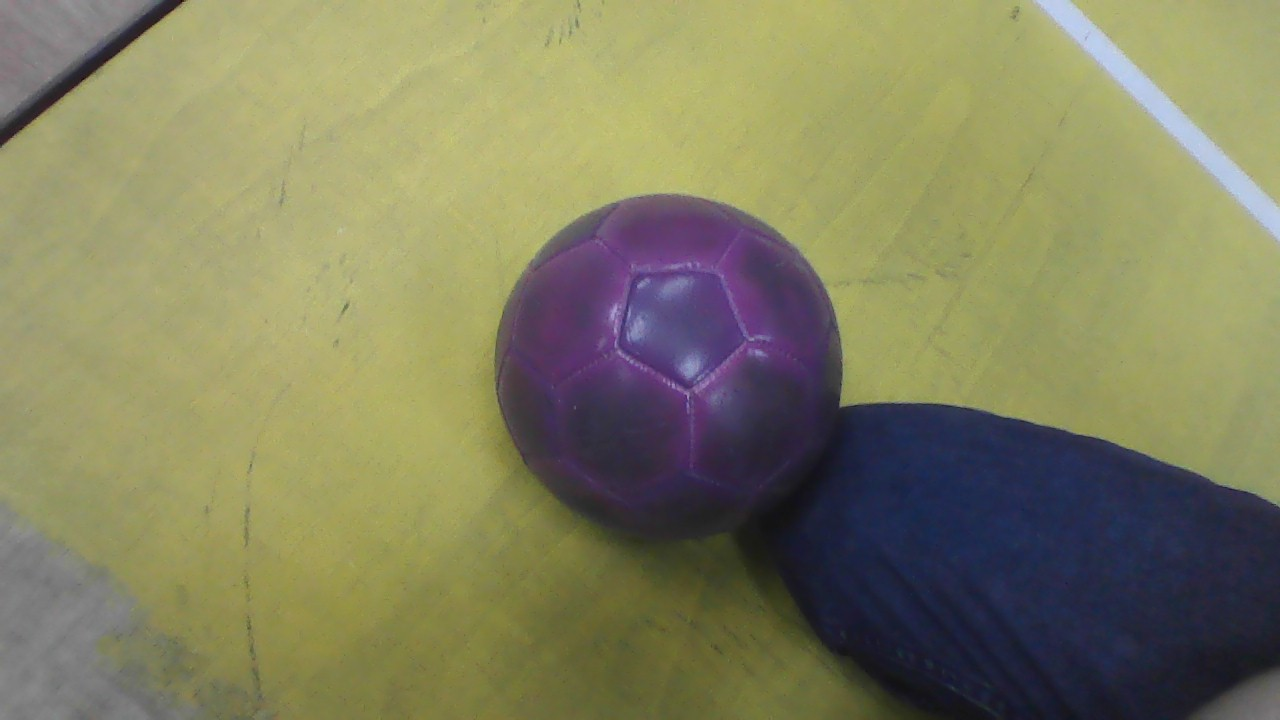Purple: (495, 194, 843, 537)
